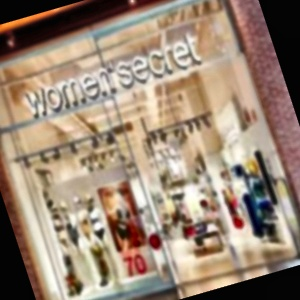women_secret: (166, 0, 228, 66)
